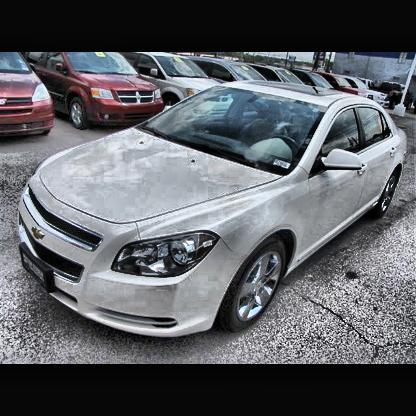Chevrolet Malibu Hybrid Sedan 2010: (18, 82, 408, 339)
